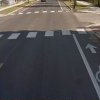crosswalk: (0, 28, 88, 39), (11, 9, 69, 15)
